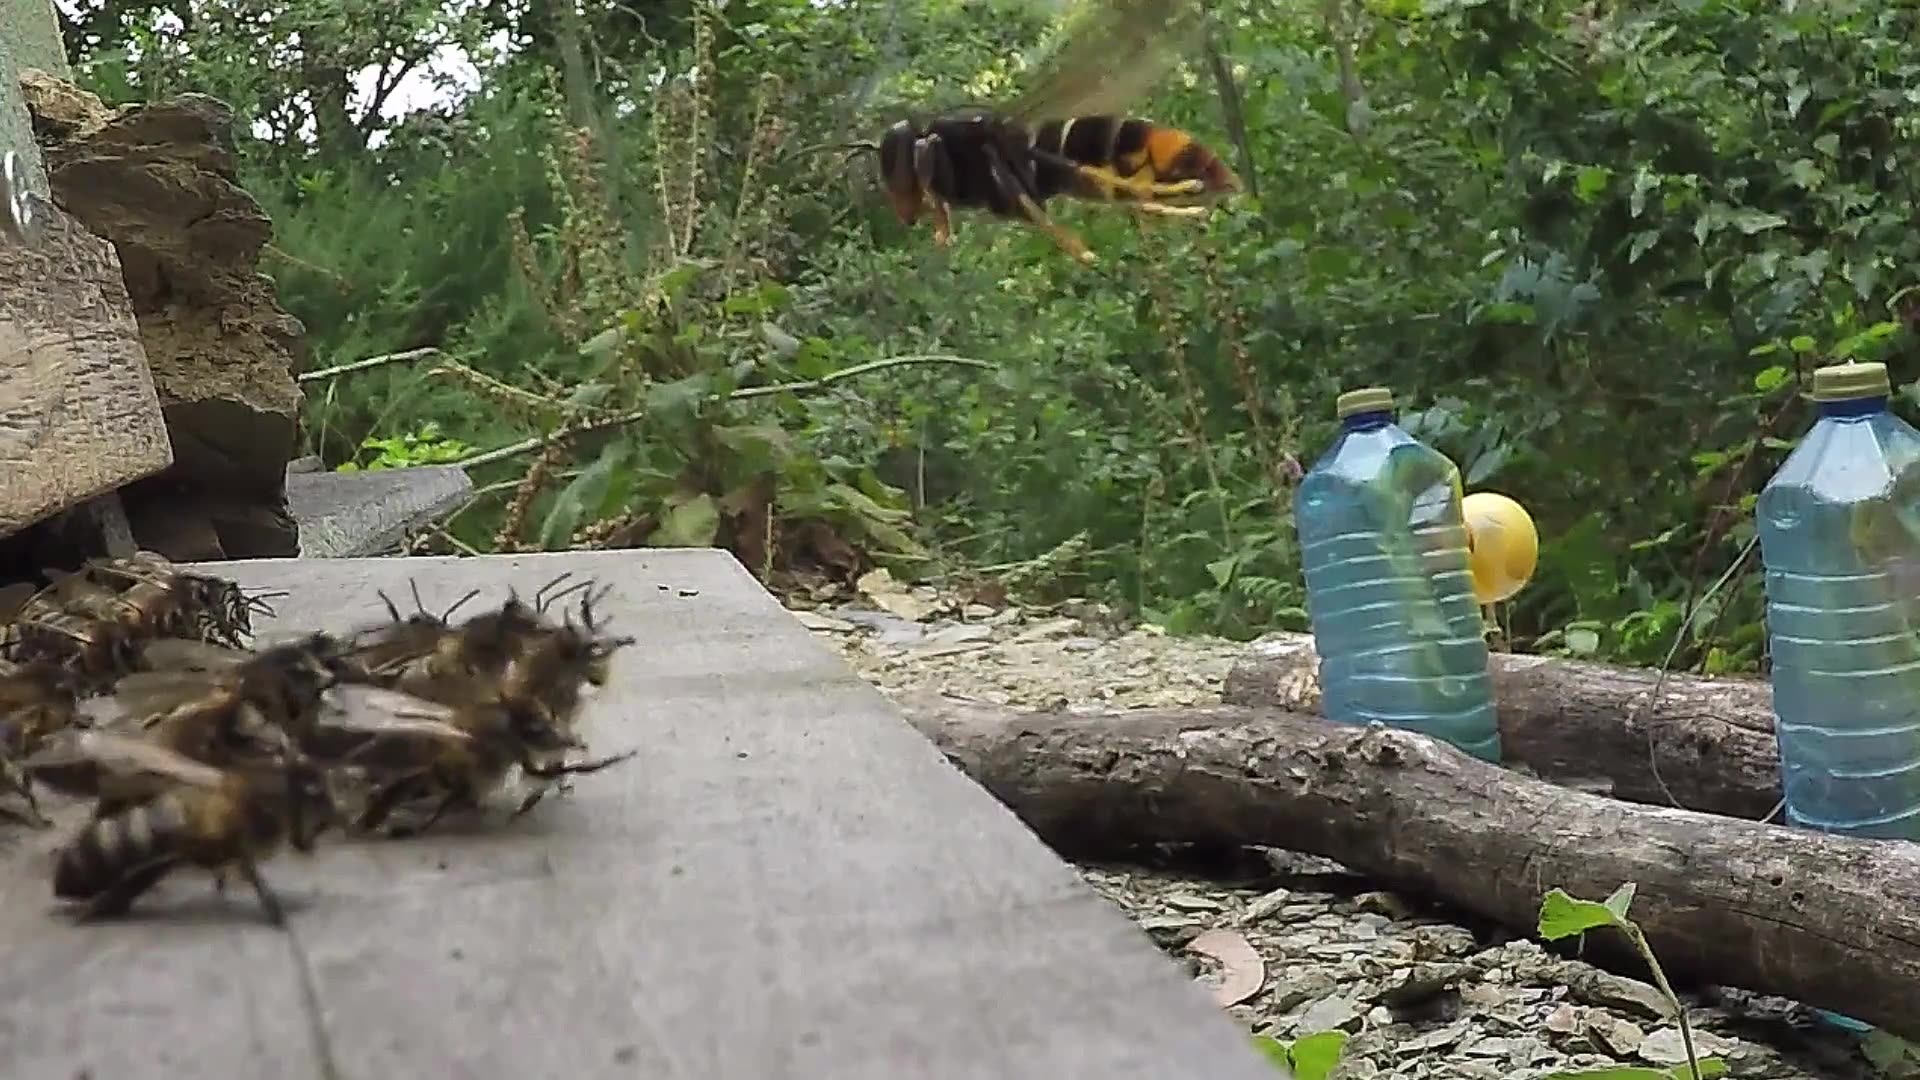bee: (3, 641, 323, 938), (307, 584, 615, 825), (18, 545, 270, 673)
hornet: (868, 74, 1271, 252)
